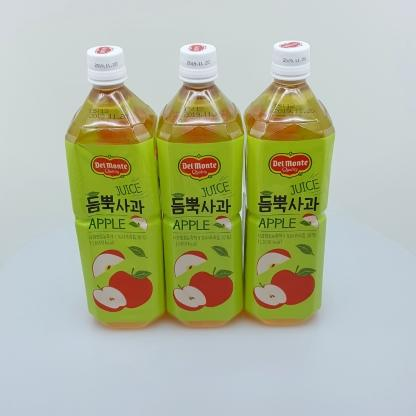----------1L: (65, 45, 168, 329), (241, 40, 336, 325), (156, 43, 244, 327)
